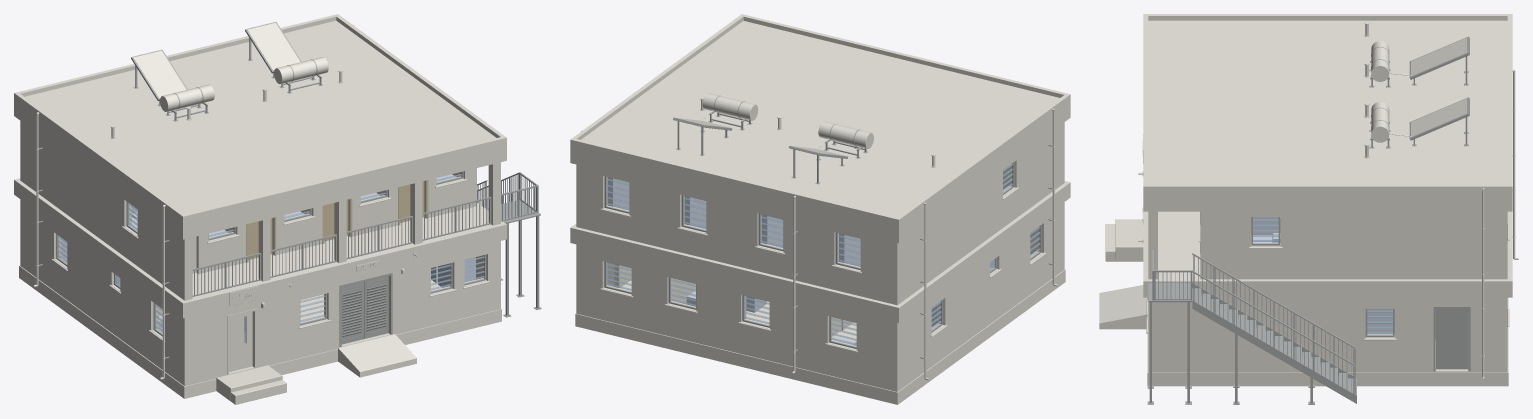
The model's file is weiler_h01.glb.
3 renders of one model, left to right at view 1: azimuth 30°, elevation 25°; view 2: azimuth 150°, elevation 25°; view 3: azimuth 270°, elevation 25°, orthographic. The views are drawn at different scales.
Parts seen in each view (by area): view 1: Roof_Membrane, Walls_EG, Walls_OG, Fascia_Teal, Band_Teal, galvanized_steel, Gallery_Topping, Foundation_Ring, concrete_cast, Gallery_Piers, Det_new_solar_collector_panel, Det_stainless_brushed (+17 smaller); view 2: Roof_Membrane, Walls_EG, Walls_OG, Fascia_Teal, Band_Teal, Foundation_Ring, glass, Det_stainless_brushed, aluminium_weathered, Det_plastic_weathered, Det_galvanized_steel, plaster_white (+5 smaller); view 3: Roof_Membrane, Walls_OG, Walls_EG, Fascia_Teal, galvanized_steel, Band_Teal, Foundation_Ring, concrete_cast, Gallery_Topping, DoorLeaf_19_R_in, Det_new_solar_collector_panel, Det_plastic_weathered (+10 smaller).
Part boxes in pixels (box(x1,y1,x2,y2)): Roof_Membrane: box(25, 20, 495, 213); Walls_EG: box(20, 199, 500, 385); Walls_OG: box(20, 121, 476, 300); Fascia_Teal: box(14, 14, 506, 239); Band_Teal: box(14, 178, 506, 318); galvanized_steel: box(192, 172, 541, 317); Gallery_Topping: box(192, 206, 492, 298); Foundation_Ring: box(19, 265, 501, 398); concrete_cast: box(216, 334, 416, 404); Gallery_Piers: box(258, 162, 500, 281); Det_new_solar_collector_panel: box(133, 23, 300, 98); Det_stainless_brushed: box(160, 57, 328, 111); Roof_Membrane: box(581, 20, 1059, 217); Walls_EG: box(576, 202, 1064, 391); Walls_OG: box(576, 122, 1064, 305); Fascia_Teal: box(570, 14, 1070, 242); Band_Teal: box(570, 181, 1070, 322); Foundation_Ring: box(575, 269, 1065, 404); glass: box(605, 164, 1040, 345); Det_stainless_brushed: box(702, 93, 873, 148); aluminium_weathered: box(604, 162, 1041, 348); Det_plastic_weathered: box(581, 97, 1057, 380); Det_galvanized_steel: box(676, 95, 1052, 358); plaster_white: box(600, 187, 1046, 352); Roof_Membrane: box(1148, 20, 1507, 184); Walls_OG: box(1200, 211, 1507, 279); Walls_EG: box(1148, 297, 1507, 372); Fascia_Teal: box(1143, 14, 1512, 211); galvanized_steel: box(1147, 249, 1356, 404); Band_Teal: box(1143, 211, 1512, 297); Foundation_Ring: box(1147, 297, 1508, 386); concrete_cast: box(1099, 219, 1147, 329); Gallery_Topping: box(1158, 211, 1200, 279); DoorLeaf_19_R_in: box(1436, 309, 1468, 369); Det_new_solar_collector_panel: box(1411, 37, 1467, 137); Det_plastic_weathered: box(1138, 21, 1518, 380).
Bounding box in the file's own units: 14.13 × 7.79 × 12.84.
